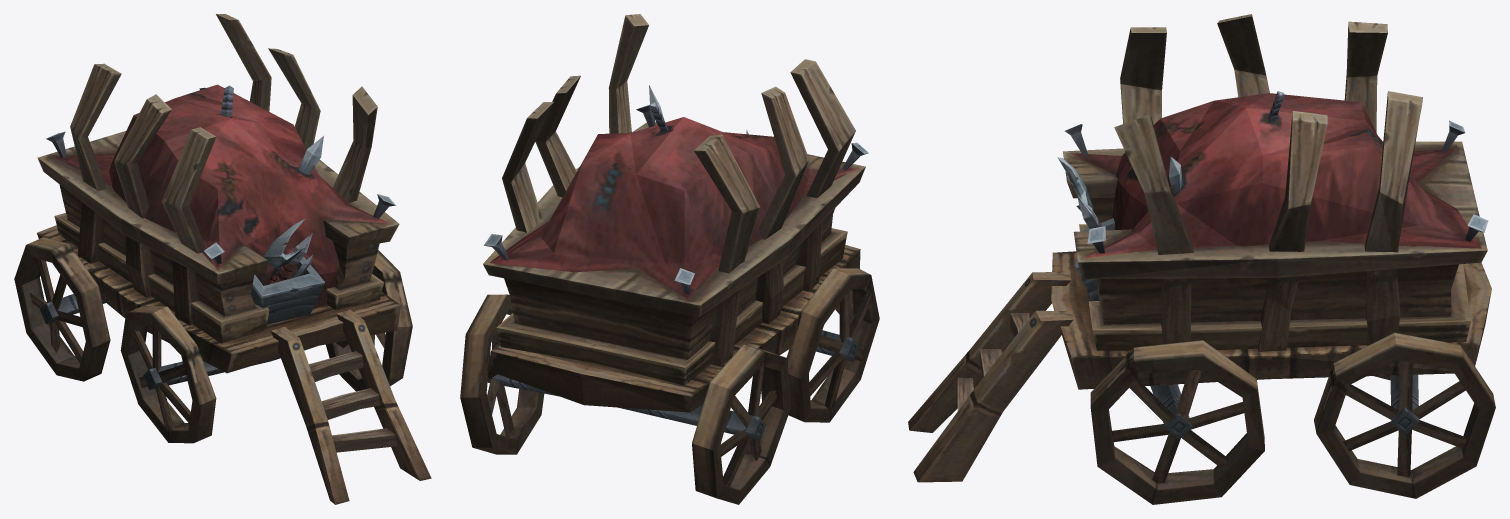
The model's file is building_caravan02.fbx.
3 renders of one model, left to right at view 1: azimuth 30°, elevation 25°; view 2: azimuth 150°, elevation 25°; view 3: azimuth 270°, elevation 25°, orthographic. The views are drawn at different scales.
Parts seen in each view (by area): view 1: obj1.003; view 2: obj1.003; view 3: obj1.003.
Part boxes in pixels (x1,y1,x2,y2): obj1.003: (14,14,431,504); obj1.003: (460,14,879,504); obj1.003: (908,14,1495,504).
Size of the model in its own units: 3.01 by 3.67 by 5.01.
